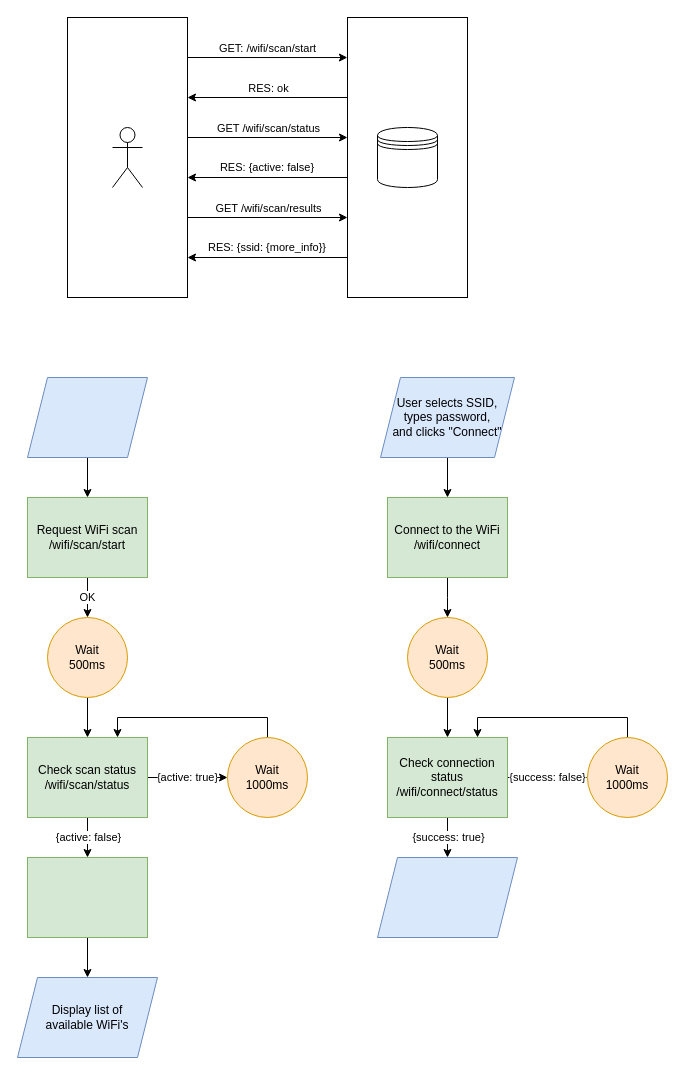
This 685x1075 diagram has some shape labels left out. The shapes that lost their labels are listed below. From the top down, each one's centre as x and y in pixels, then its label:
(x=127, y=157): HTTP Client
(x=407, y=157): Pagers Server
(x=87, y=417): User clicks "Start WiFi Scan"
(x=87, y=897): Get results /wifi/scan/results
(x=447, y=897): Display IP to user {ip: xxx.xxx.xxx.xxx}
